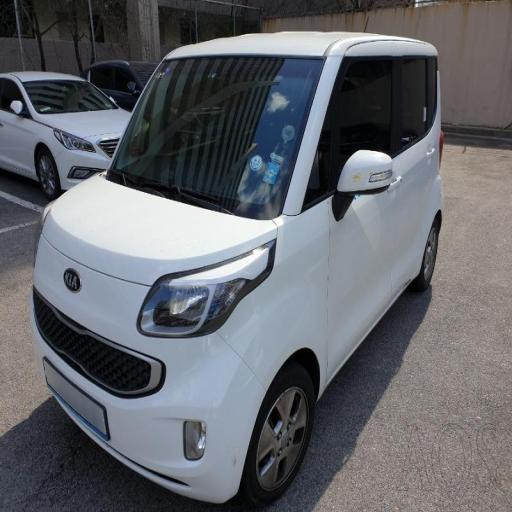normal: (40, 0, 470, 512)
